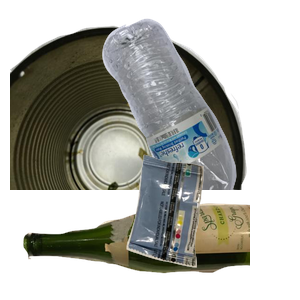glass: (21, 201, 261, 300)
metal: (10, 23, 250, 203)
plastic: (100, 16, 300, 196)
trash: (124, 152, 300, 300)
